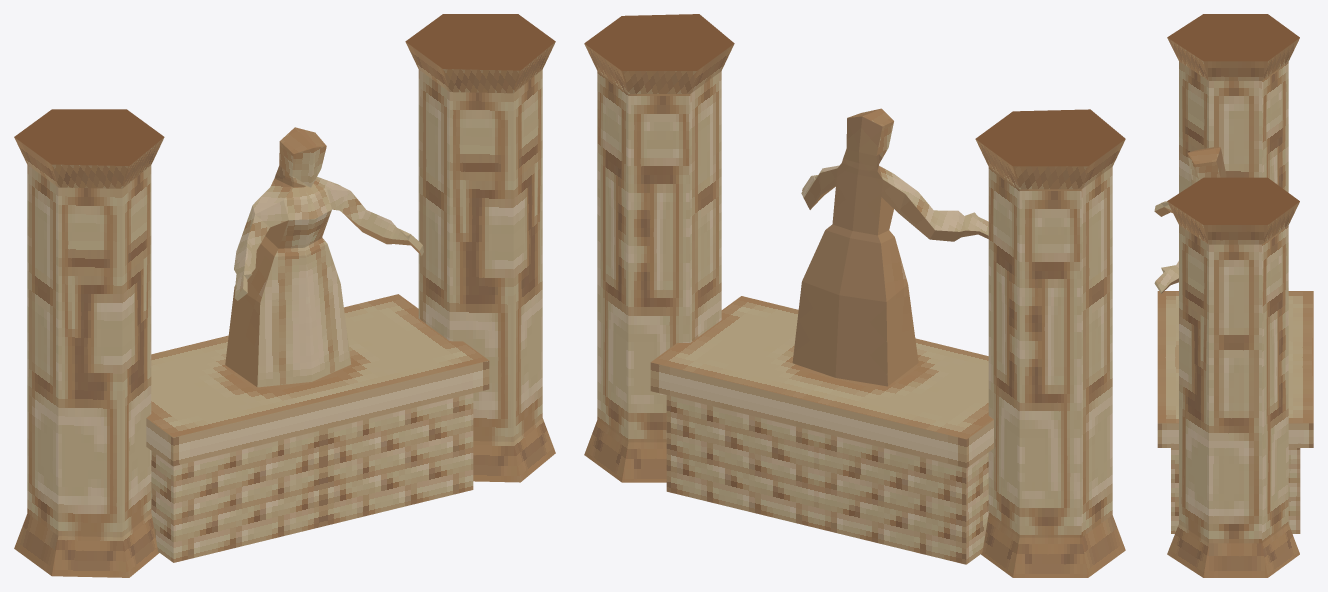
Rendered from shrine_idol_low_poly_psx.glb.
3 renders of one model, left to right at view 1: azimuth 30°, elevation 25°; view 2: azimuth 150°, elevation 25°; view 3: azimuth 270°, elevation 25°, orthographic. The views are drawn at different scales.
Visible parts, largest first — view 1: Cube_4, Cylinder_2, Cylinder.001_3, statue_5; view 2: Cube_4, Cylinder_2, Cylinder.001_3, statue_5; view 3: Cylinder.001_3, Cylinder_2, Cube_4, statue_5.
Part boxes in pixels (bbox=[...]): Cube_4: bbox=[146, 294, 489, 562]; Cylinder_2: bbox=[14, 109, 164, 577]; Cylinder.001_3: bbox=[405, 14, 555, 482]; statue_5: bbox=[225, 127, 423, 387]; Cube_4: bbox=[650, 296, 993, 564]; Cylinder_2: bbox=[975, 109, 1125, 577]; Cylinder.001_3: bbox=[584, 14, 734, 482]; statue_5: bbox=[792, 108, 988, 386]; Cylinder.001_3: bbox=[1167, 177, 1299, 577]; Cylinder_2: bbox=[1167, 14, 1299, 192]; Cube_4: bbox=[1157, 291, 1313, 533]; statue_5: bbox=[1154, 146, 1226, 293].
Size of the model in its own units: 7.73 by 6.04 by 2.46.
Materials: 3 (3 with a texture image).
